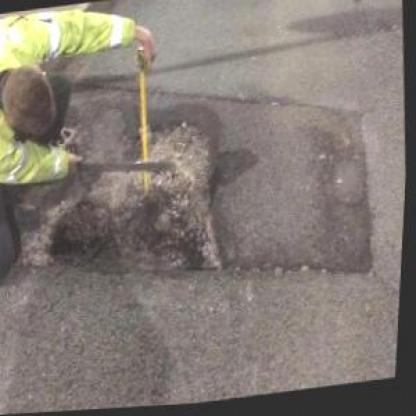pothole: (119, 97, 240, 288)
